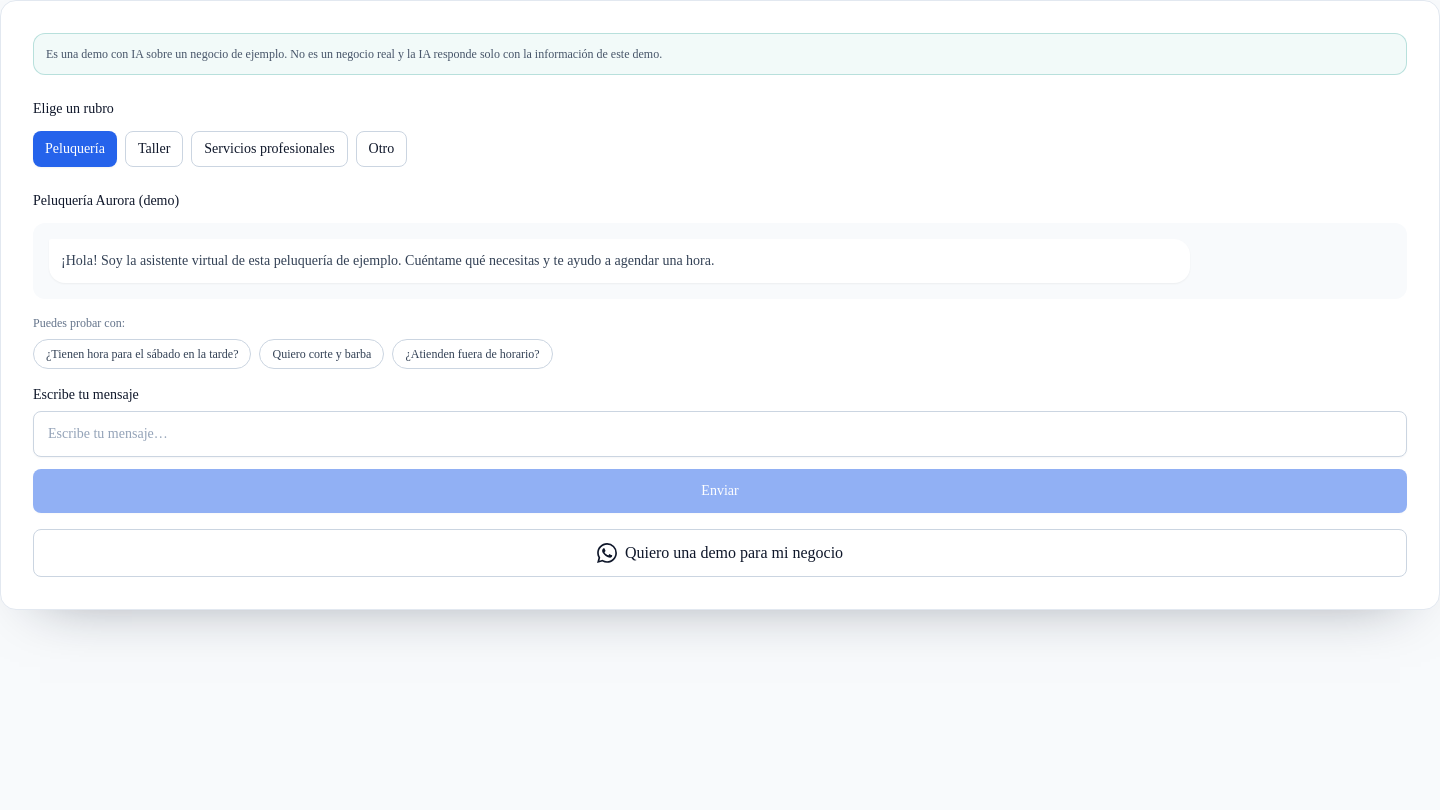
Test: DemoChat › sends the conversation so far as history
Type "m1" into the field labelled "Escribe tu mensaje". click: (720, 434)
box: [33,411,1407,457]
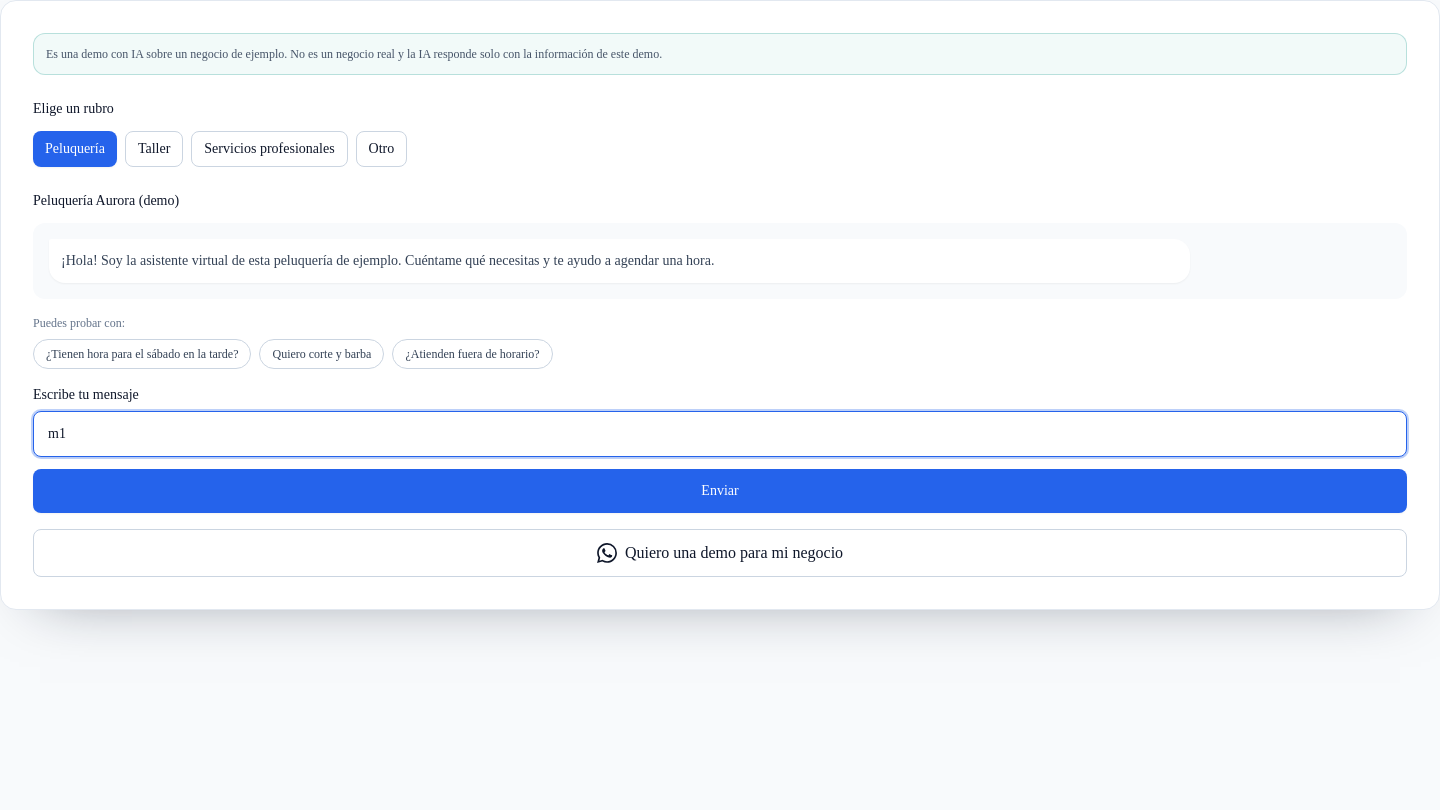
Click the button "Enviar". click: (720, 491)
box: [33,469,1407,513]
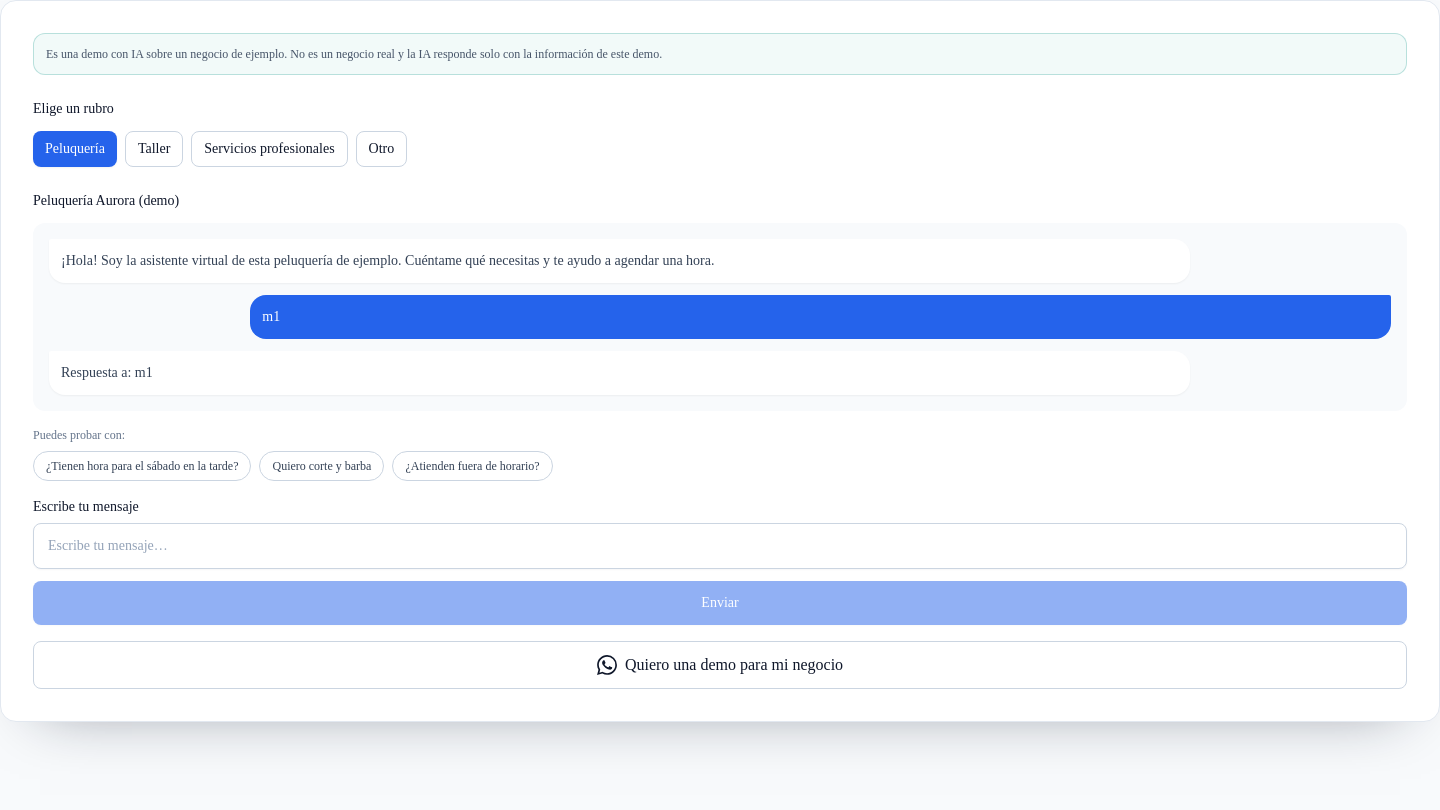
Now the text "Respuesta a: m1" is shown, box [49,351,1190,395]
